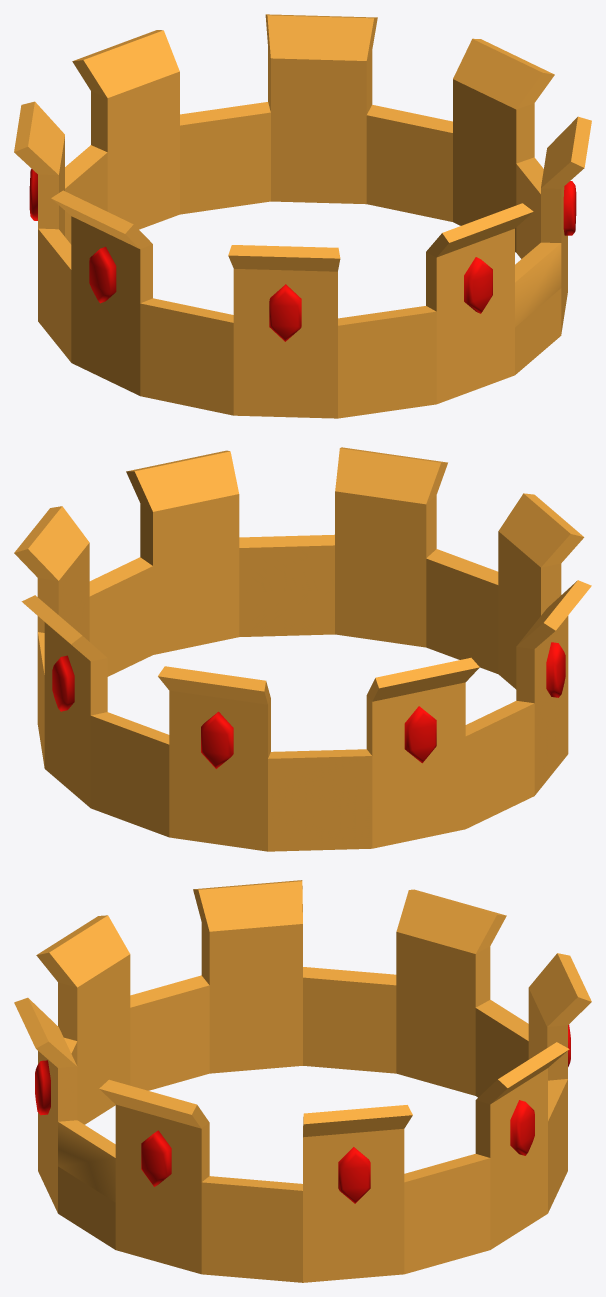
The model's file is Crown.fbx.
3 renders of one model, top to bottom at view 1: azimuth 30°, elevation 25°; view 2: azimuth 150°, elevation 25°; view 3: azimuth 270°, elevation 25°, orthographic.
Visible parts, largest first — view 1: Cylinder; view 2: Cylinder; view 3: Cylinder.
Part boxes in pixels (<box>): Cylinder: <box>14,14,591,418</box>; Cylinder: <box>14,447,591,851</box>; Cylinder: <box>14,880,591,1282</box>.
Size of the model in its own units: 218 by 72.24 by 218.
